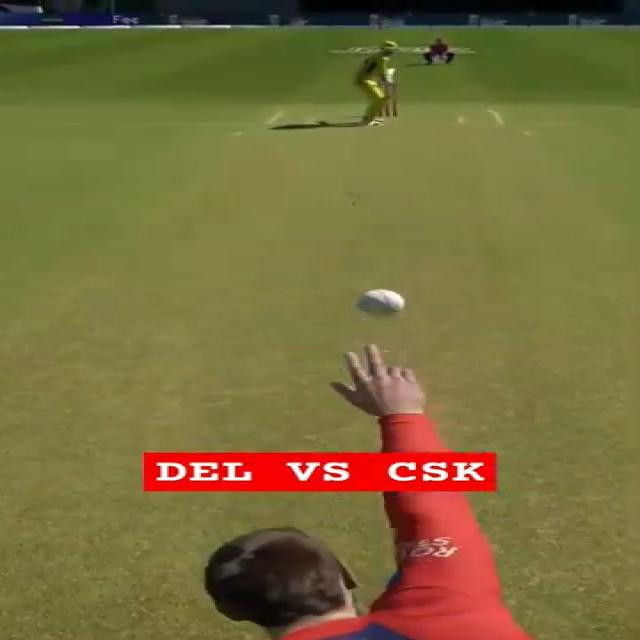ball: (354, 288, 414, 318)
